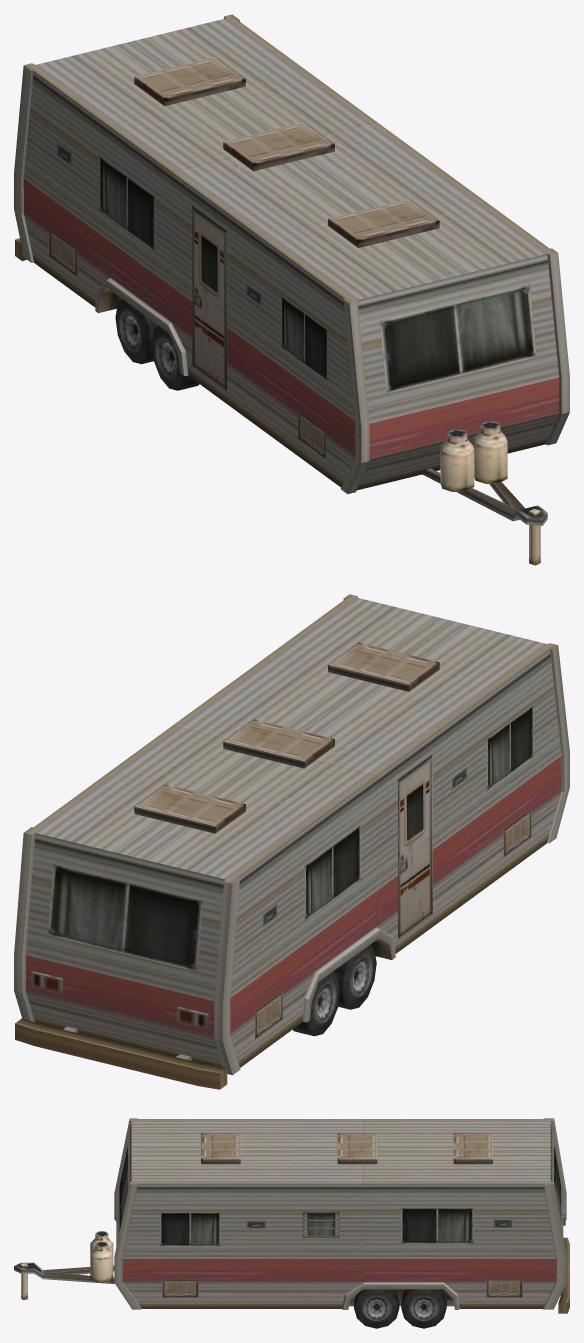
Rendered from rural-trailer.lod1.glb.
3 renders of one model, top to bottom at view 1: azimuth 30°, elevation 25°; view 2: azimuth 150°, elevation 25°; view 3: azimuth 270°, elevation 25°, orthographic. The views are drawn at different scales.
Parts seen in each view (by area): view 1: Rural_TrailerH_1_Rural_Trailer_Stuff_1_0; view 2: Rural_TrailerH_1_Rural_Trailer_Stuff_1_0; view 3: Rural_TrailerH_1_Rural_Trailer_Stuff_1_0.
Boxes of the visible parts, x1,y1,x2,y2 form: Rural_TrailerH_1_Rural_Trailer_Stuff_1_0: (14,14,569,565); Rural_TrailerH_1_Rural_Trailer_Stuff_1_0: (14,594,569,1089); Rural_TrailerH_1_Rural_Trailer_Stuff_1_0: (14,1118,569,1328).
Bounding box in the file's own units: 2.83 × 2.98 × 9.88.
Materials: 1 (1 with a texture image).
